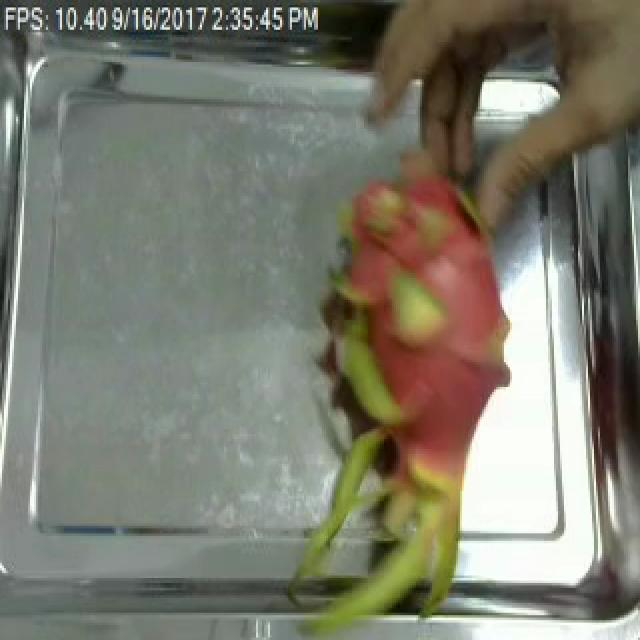fruit: (272, 201, 544, 628)
